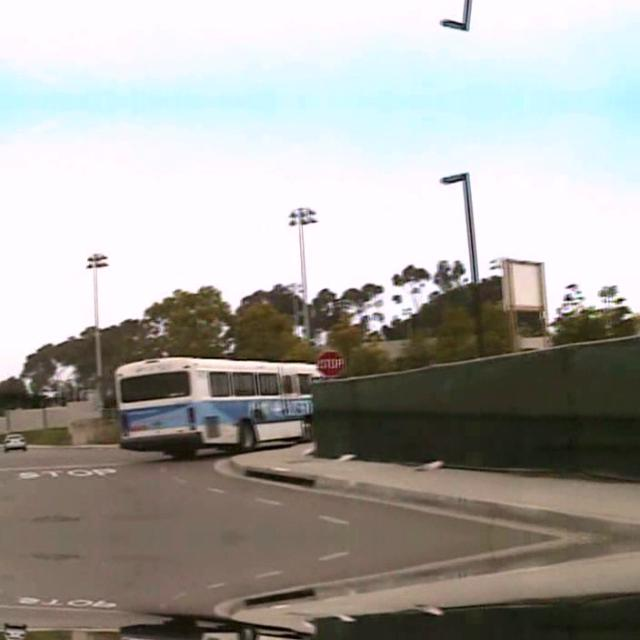stop: (316, 348, 344, 376)
